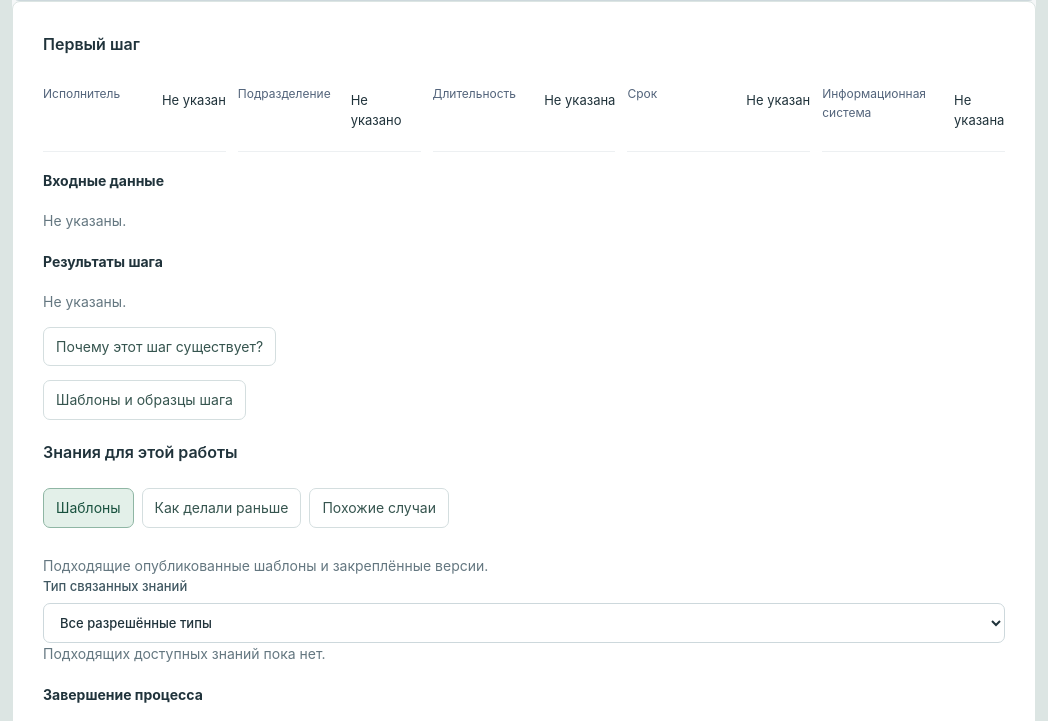
keeps restricted process bases generic and exposes no hidden identifiers or titles
(page scrolled)
Click the button "Почему этот шаг существует?" at (160, 347), box [43,327,276,366]
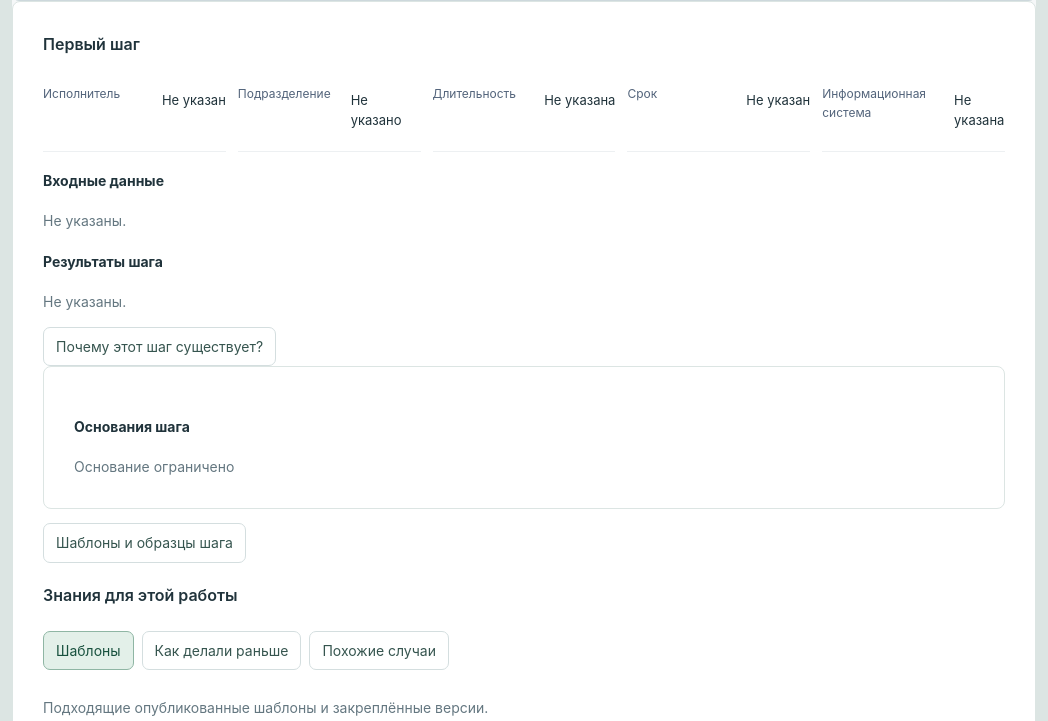
Expected: the text "Основание ограничено" is shown, [74,458,234,475]
